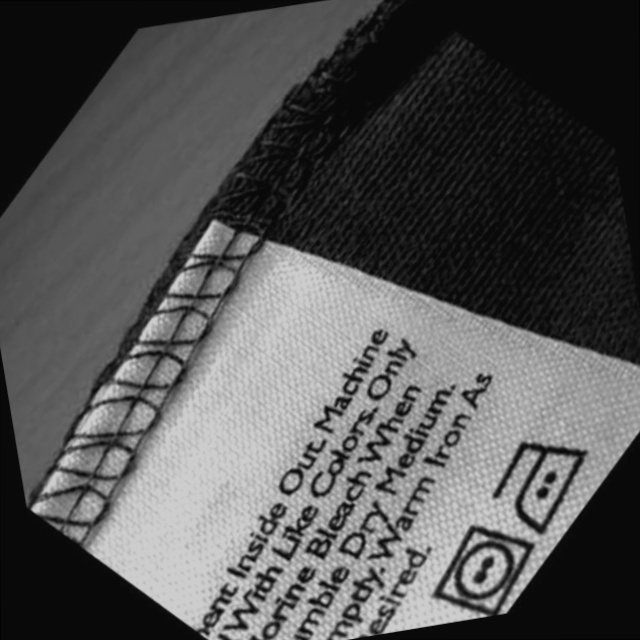iron_medium: (486, 429, 606, 538)
tumble_dry_medium: (425, 517, 548, 623)
